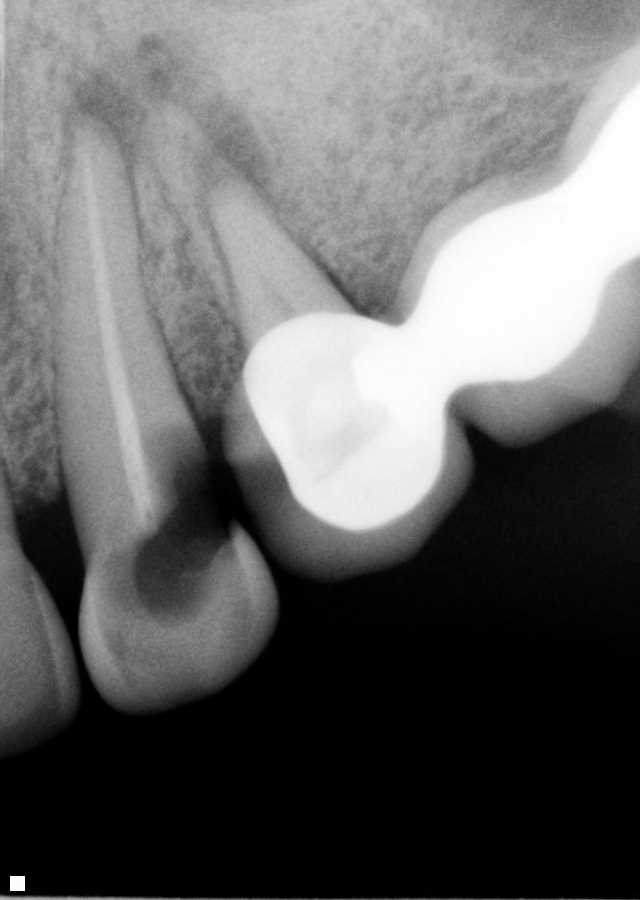Apical Lesion: (181, 94, 271, 207), (59, 72, 143, 164), (134, 39, 227, 114)
Main Root: (46, 125, 195, 480), (207, 176, 347, 356), (0, 437, 21, 568)
Root Canal Filling: (84, 143, 155, 521)
